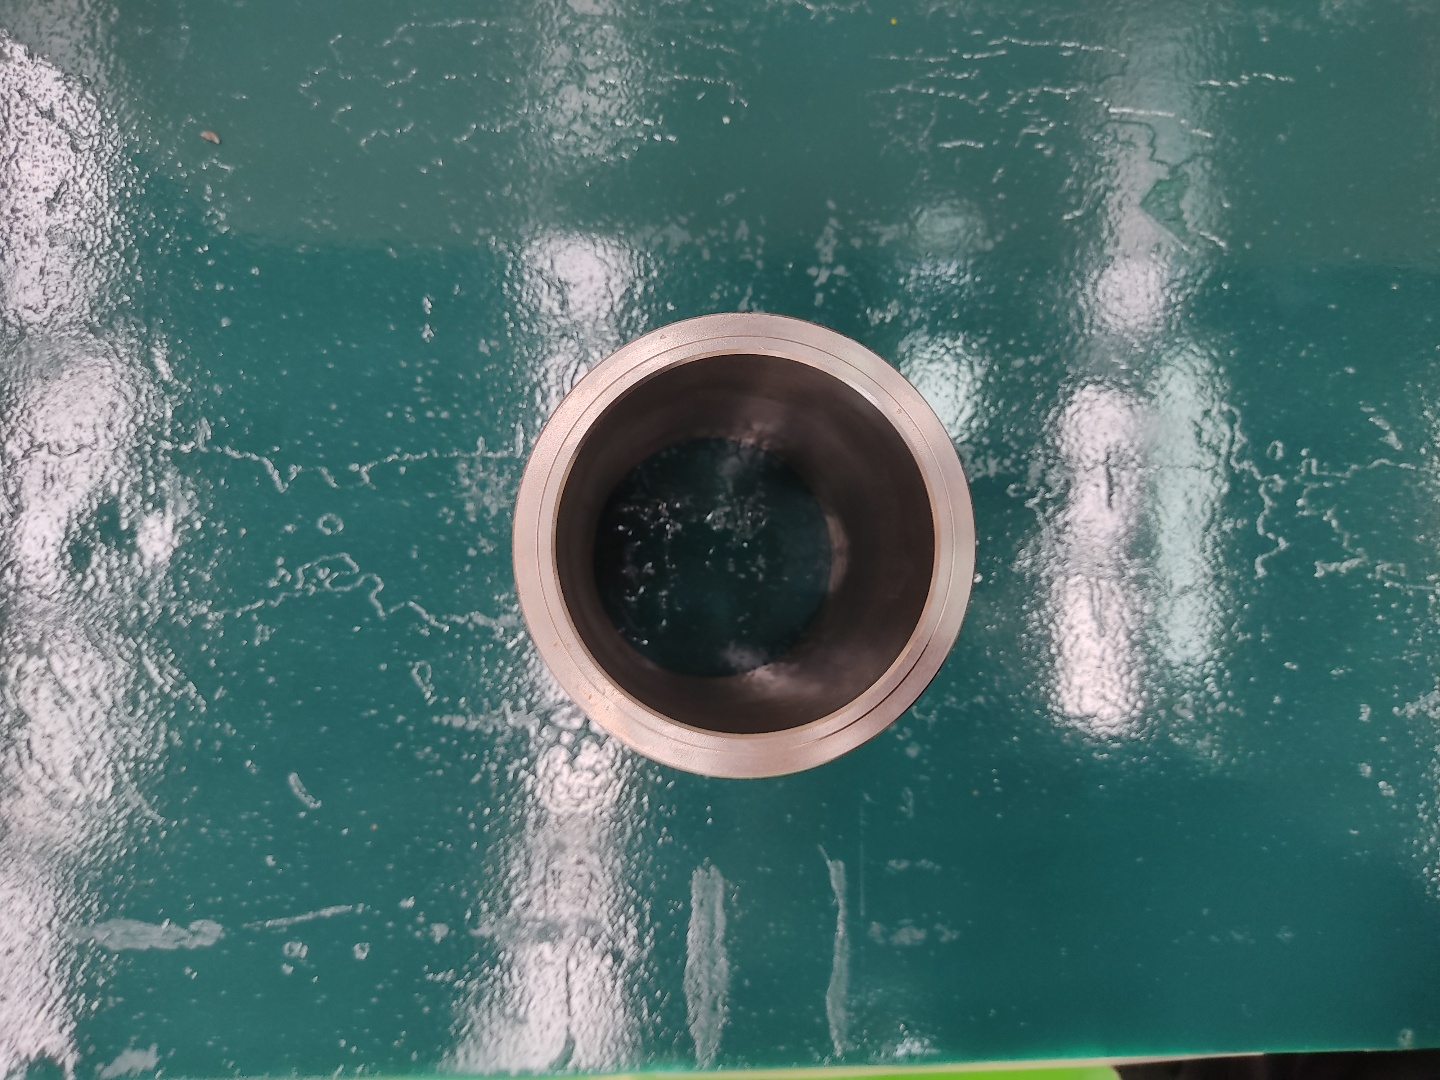cylinder: (505, 307, 980, 787)
